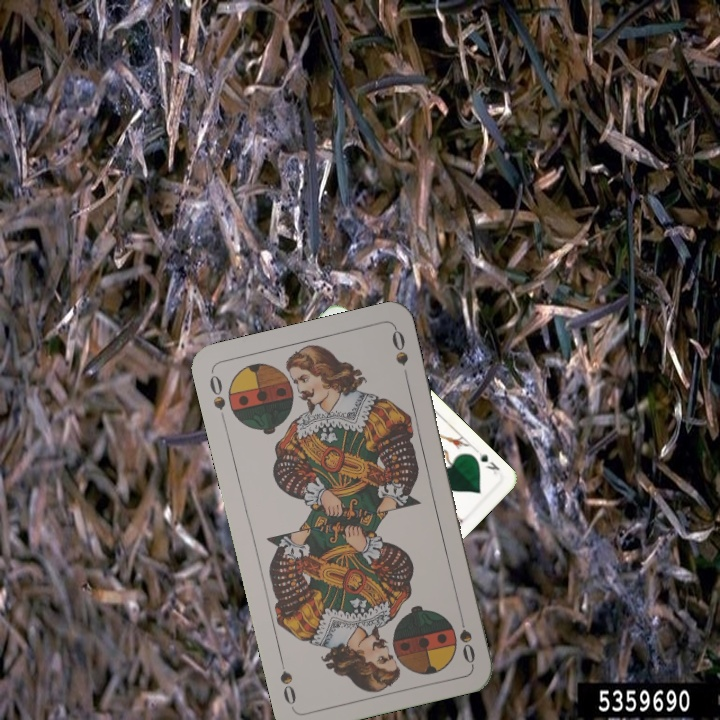GK: (475, 448, 502, 477)
SO: (205, 370, 229, 427), (455, 608, 478, 666)
